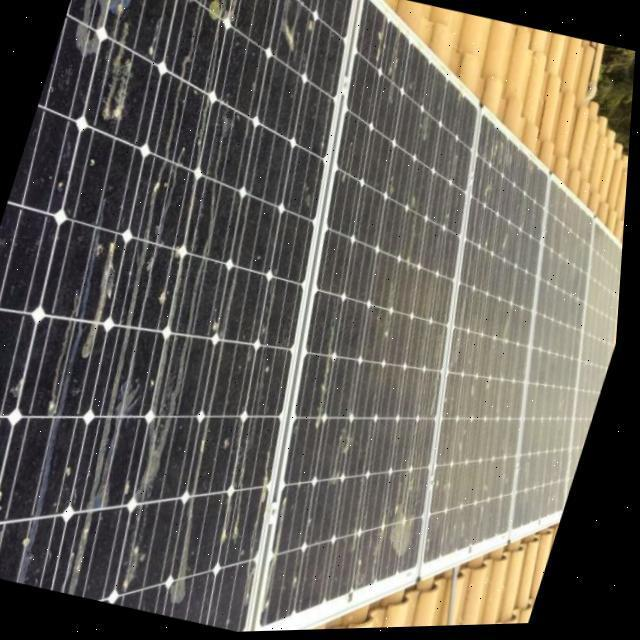Surface Contaminant: (381, 458, 444, 566)
